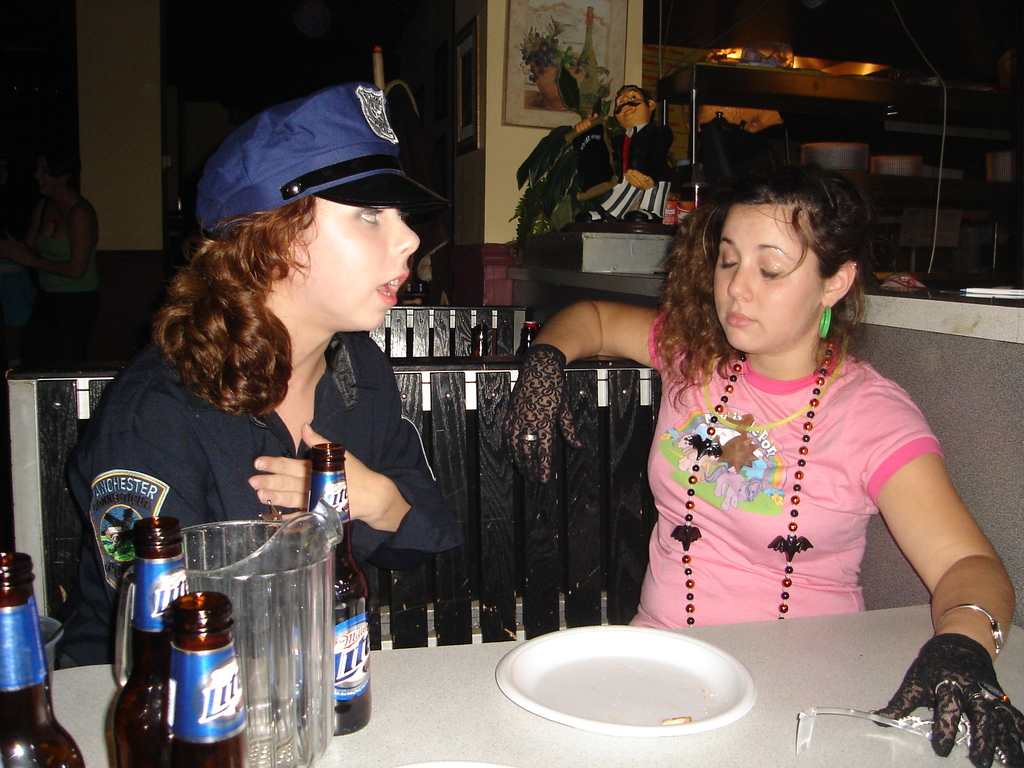Human-face: (713, 199, 820, 356), (296, 195, 414, 328)
